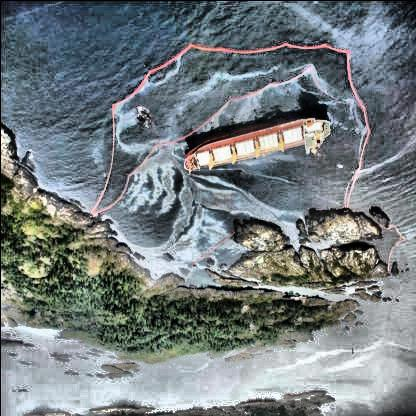sheen: (108, 149, 300, 286)
